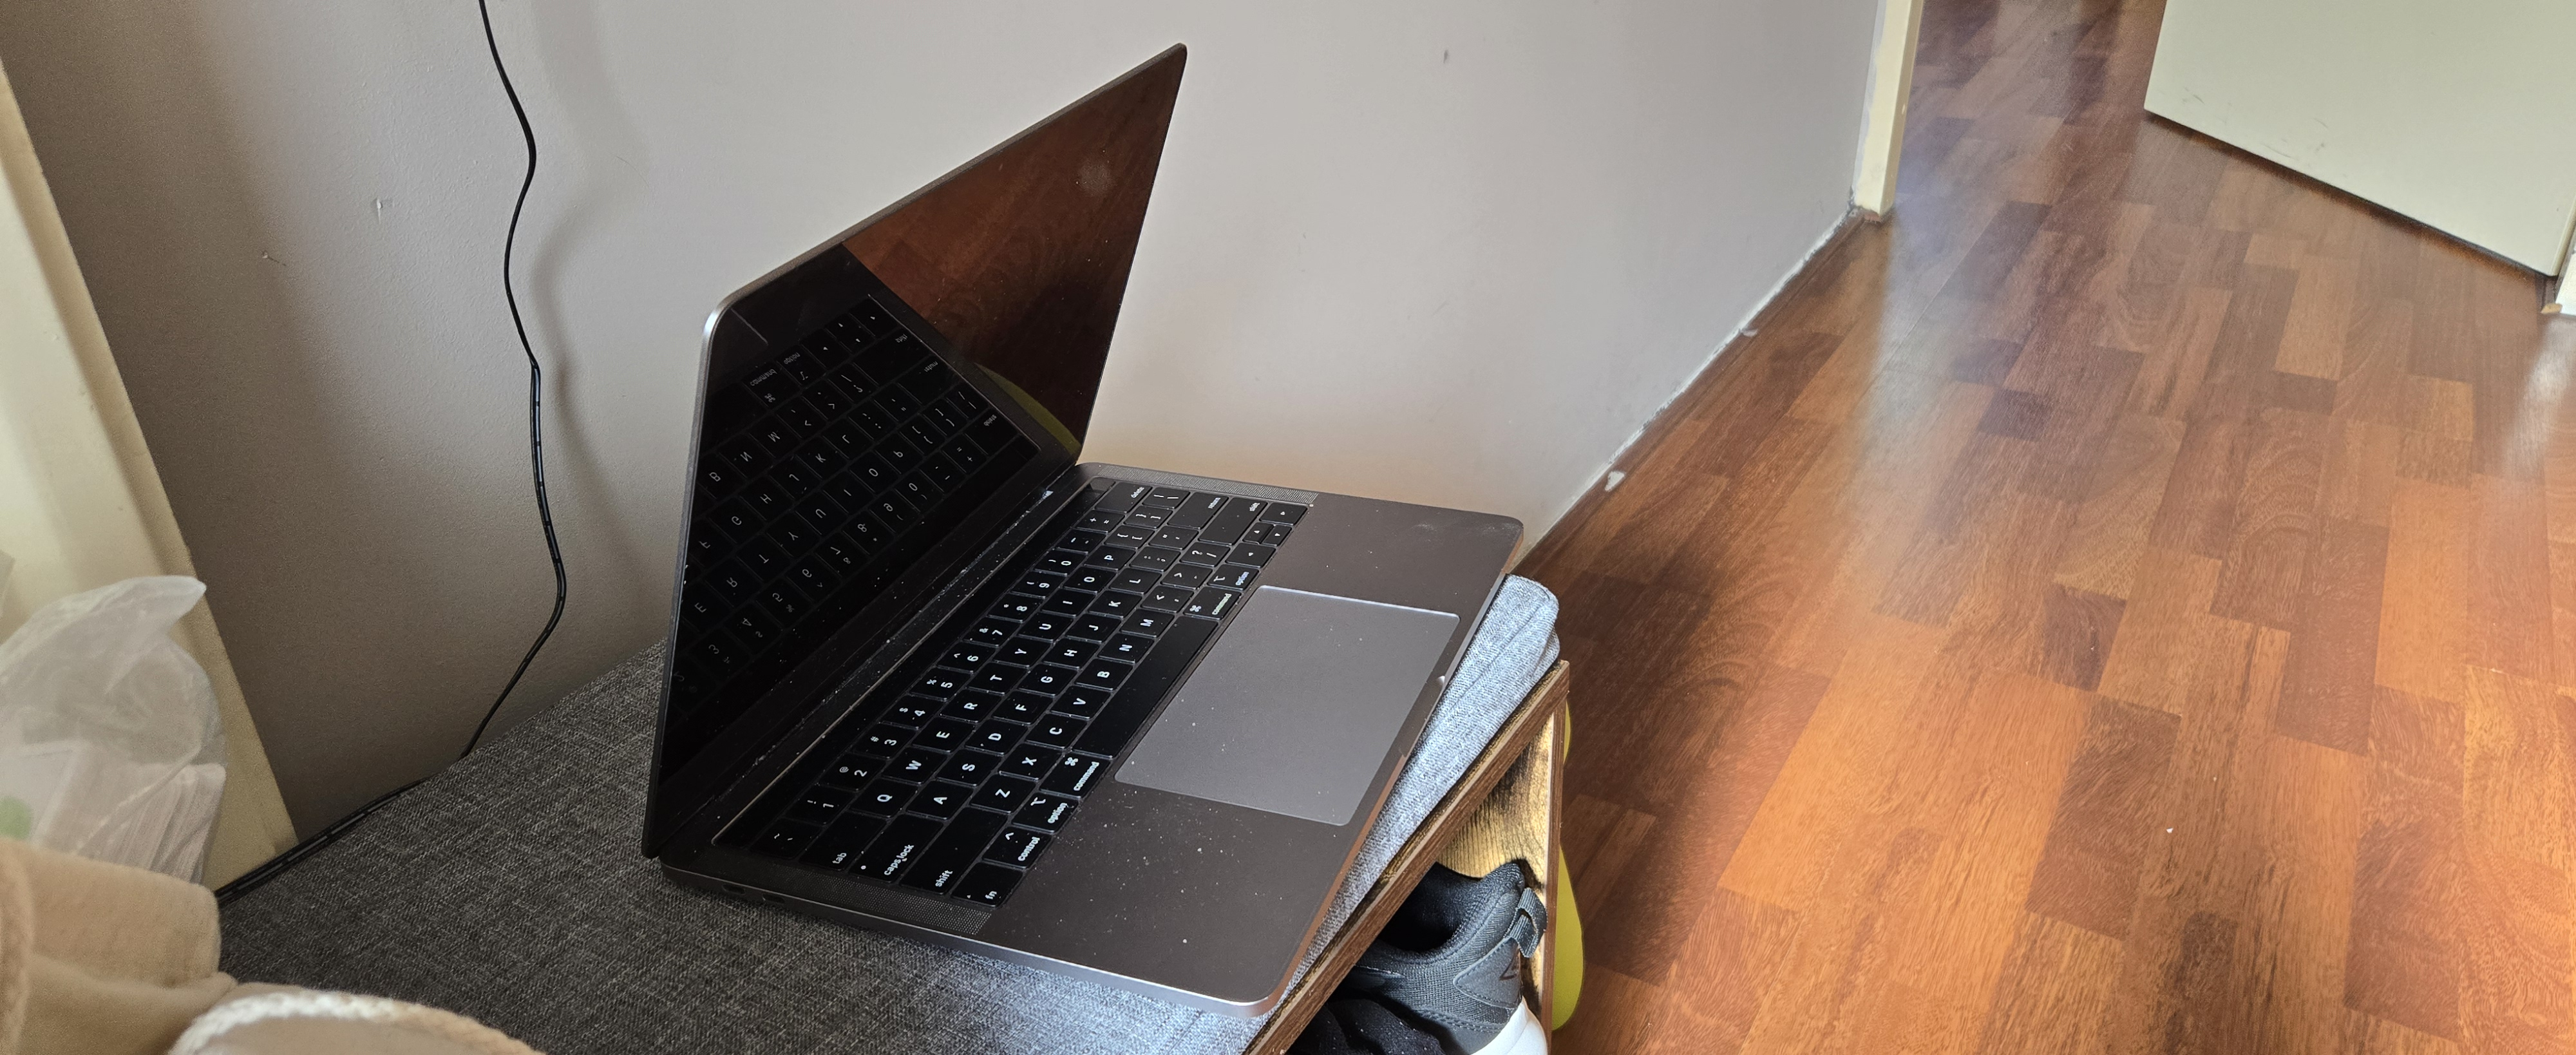laptop: (596, 18, 1562, 1055)
